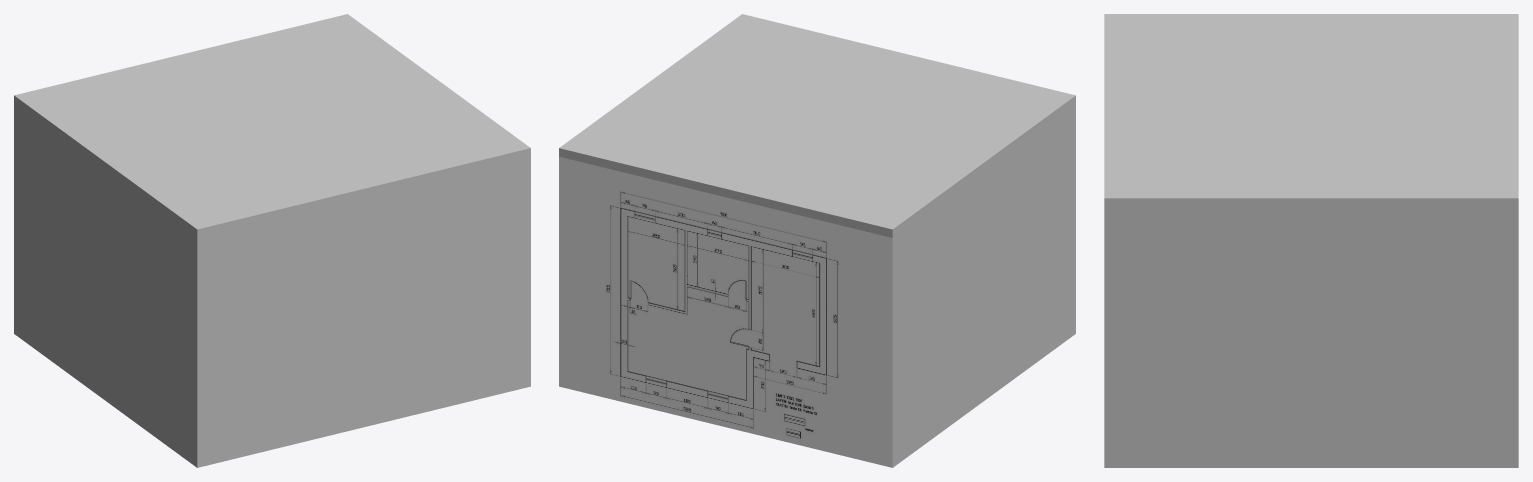
The model's file is txe_export.obj.
3 renders of one model, left to right at view 1: azimuth 30°, elevation 25°; view 2: azimuth 150°, elevation 25°; view 3: azimuth 270°, elevation 25°, orthographic. The views are drawn at different scales.
Size of the model in its own units: 4.1 by 2.8 by 3.9.
7 materials, 3 textured.
